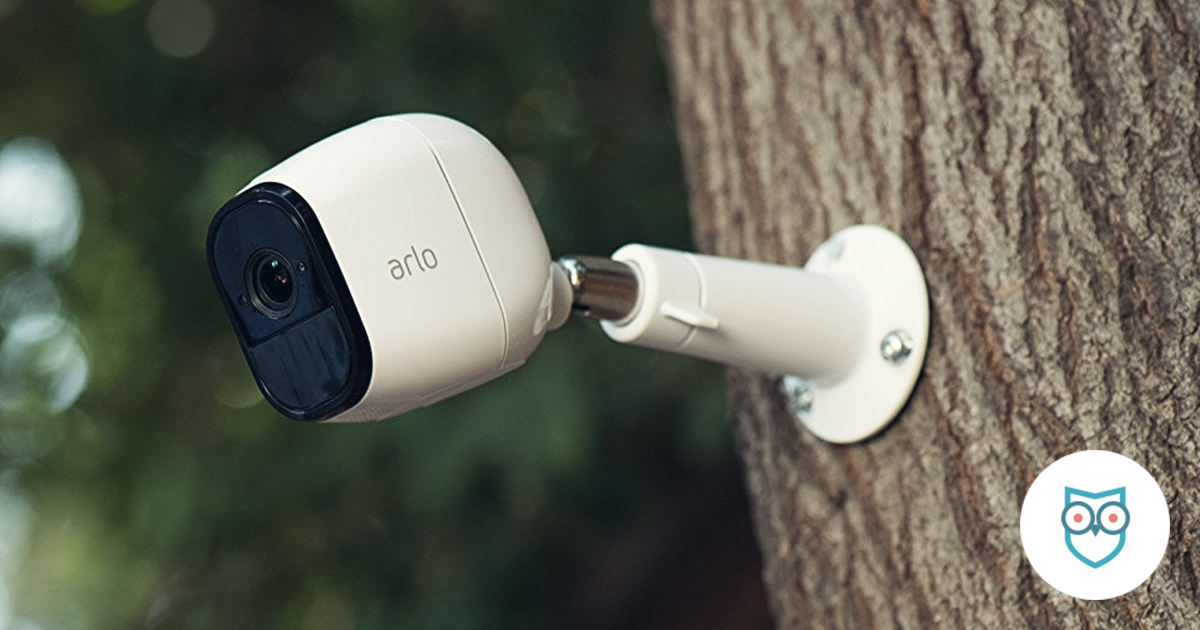Nest Cam: (194, 105, 596, 435)
